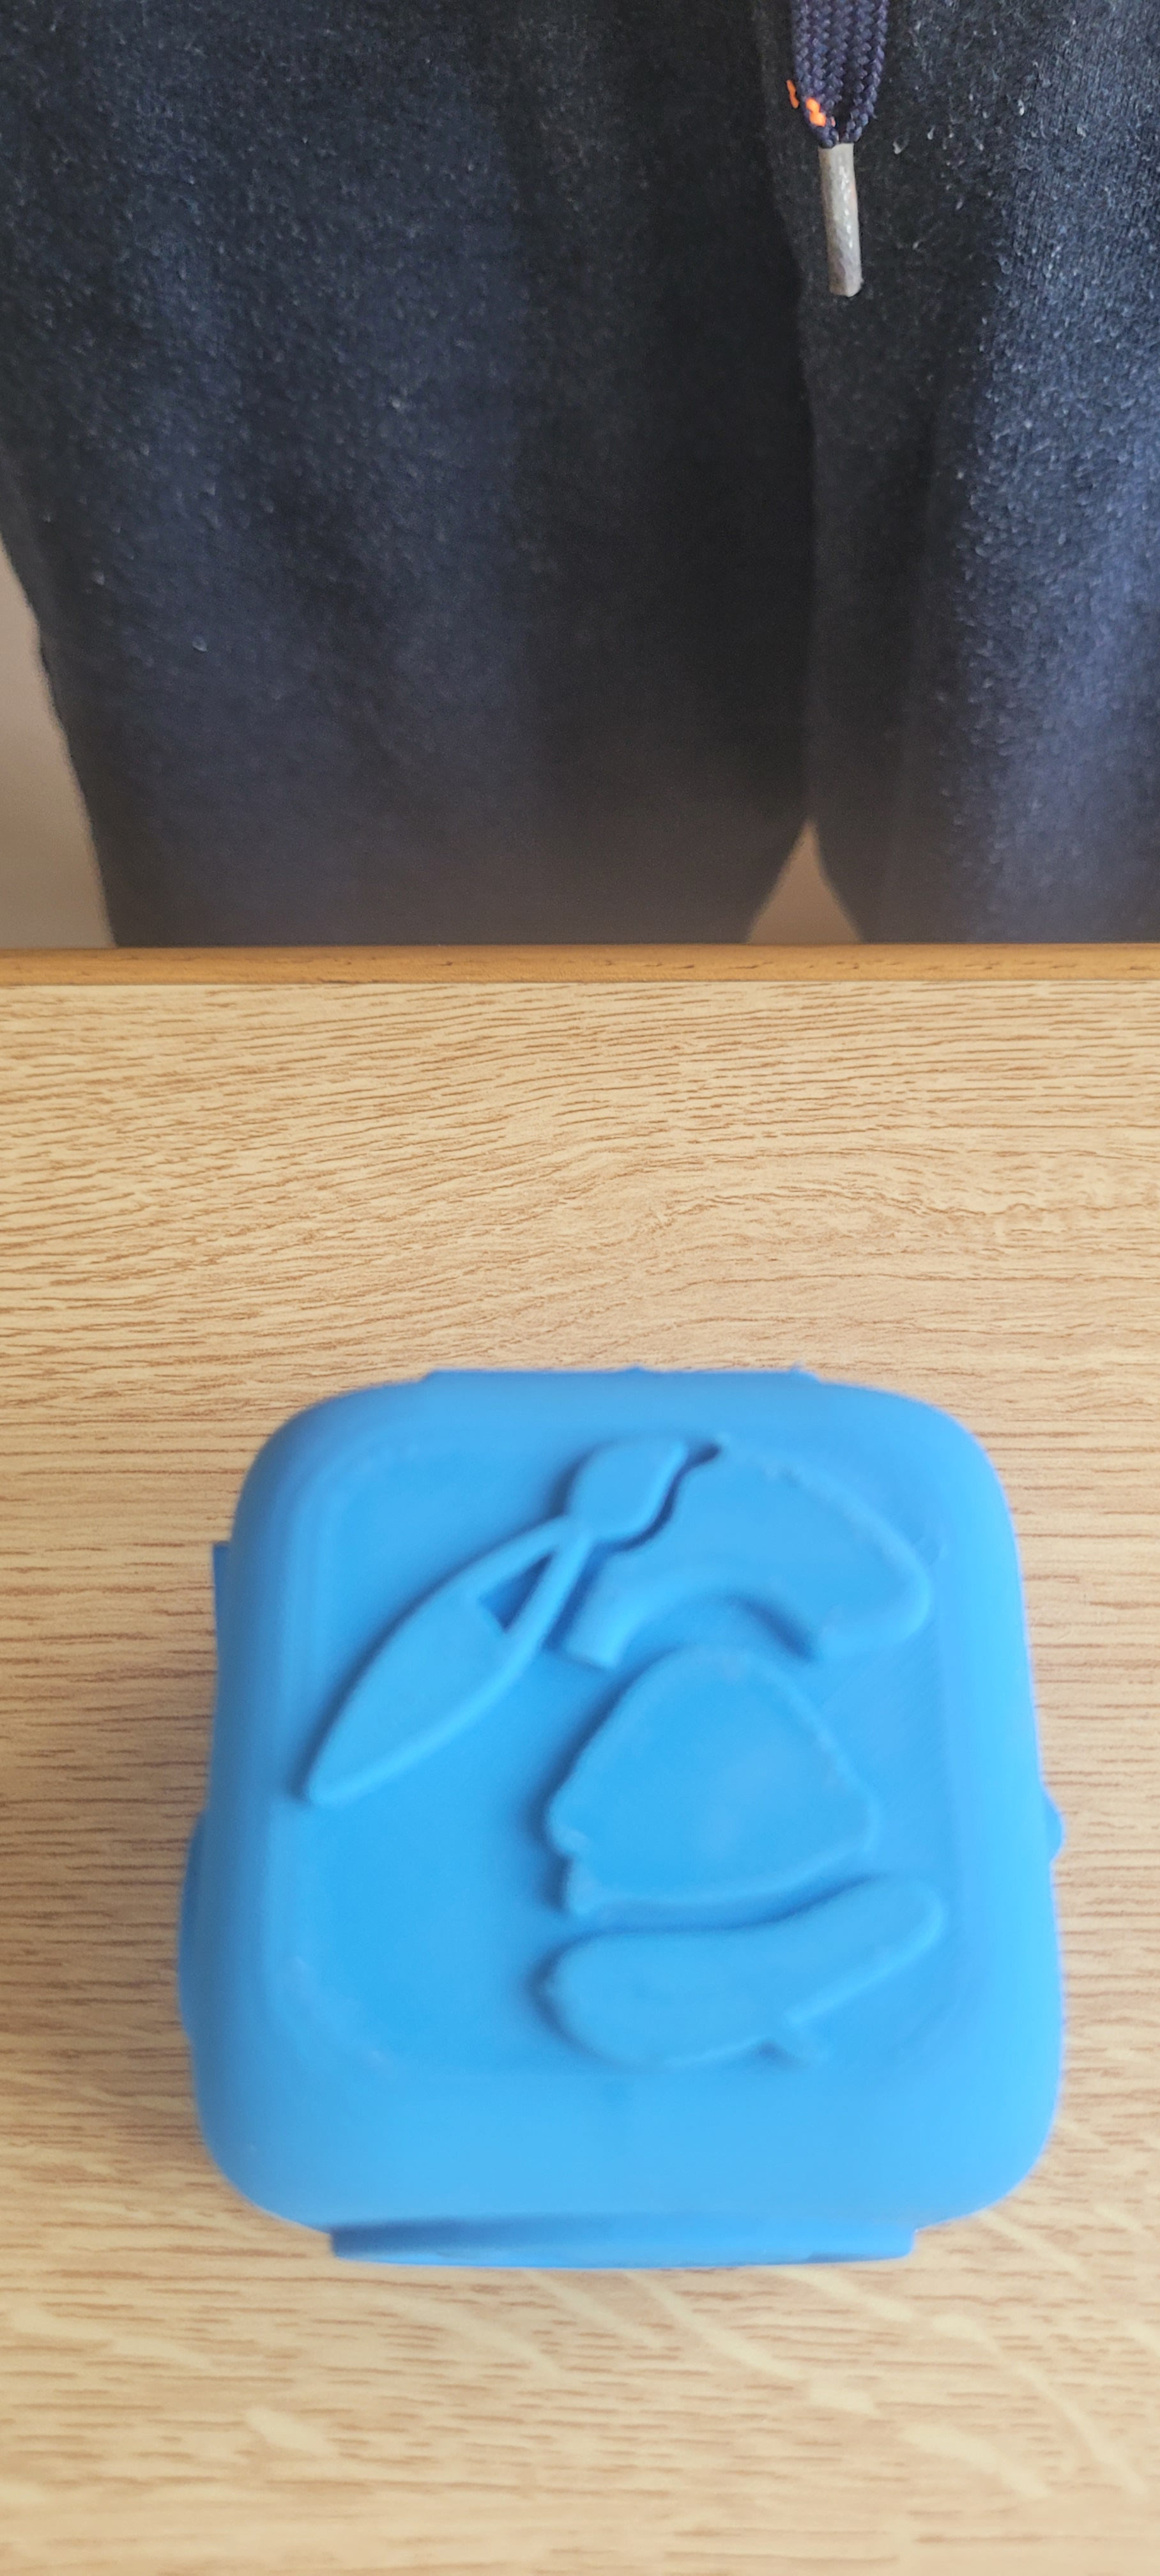Artist_Info: (222, 1308, 1043, 2265)
